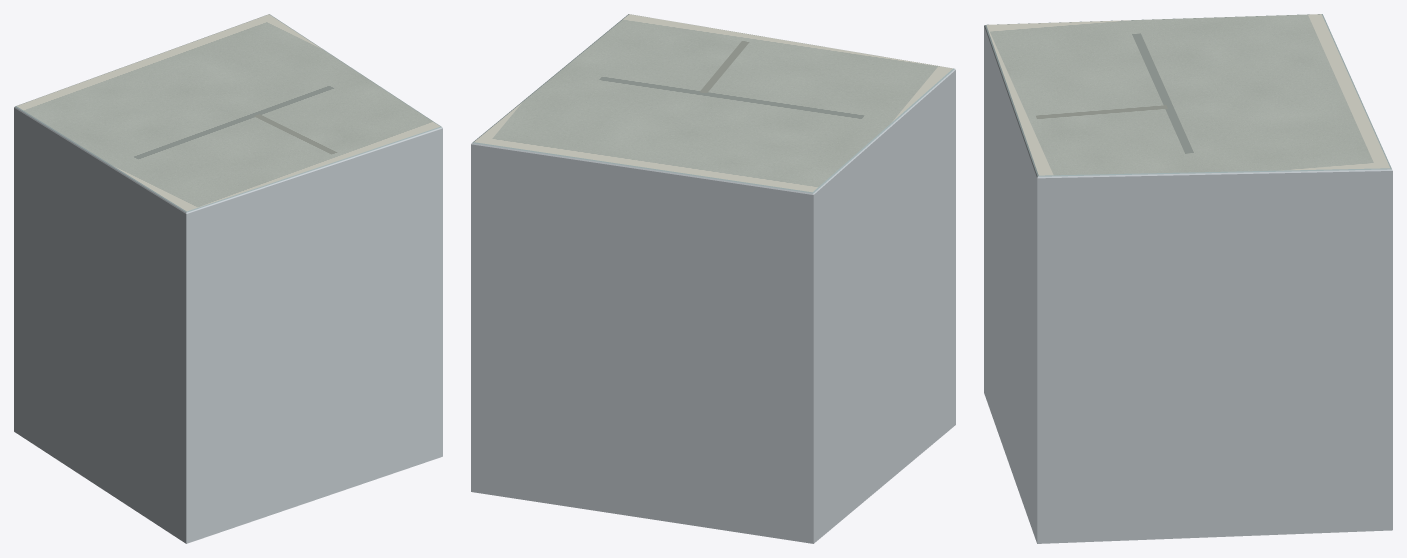
Rendered from fragments.glb.
3 views of the same model, side by side, from view 1: azimuth 30°, elevation 25°; view 2: azimuth 150°, elevation 25°; view 3: azimuth 270°, elevation 25° (orthographic). The views are drawn at different scales.
Parts seen in each view (by area): view 1: SM_animal_Fragment_004, SM_animal_Fragment_006, SM_animal_Fragment_032, SM_animal_Fragment_014, SM_animal_Fragment_061, SM_animal_Fragment_000, SM_animal_Fragment_020, SM_animal_Fragment_027, SM_animal_Fragment_038, SM_animal_Fragment_015, SM_animal_Fragment_001, SM_animal_Fragment_013 (+23 smaller); view 2: SM_animal_Fragment_055, SM_animal_Fragment_012, SM_animal_Fragment_019, SM_animal_Fragment_005, SM_animal_Fragment_028, SM_animal_Fragment_060, SM_animal_Fragment_042, SM_animal_Fragment_001, SM_animal_Fragment_063, SM_animal_Fragment_021, SM_animal_Fragment_023, SM_animal_Fragment_020 (+23 smaller); view 3: SM_animal_Fragment_002, SM_animal_Fragment_039, SM_animal_Fragment_016, SM_animal_Fragment_049, SM_animal_Fragment_021, SM_animal_Fragment_013, SM_animal_Fragment_030, SM_animal_Fragment_010, SM_animal_Fragment_035, SM_animal_Fragment_040, SM_animal_Fragment_034, SM_animal_Fragment_053 (+22 smaller).
Boxes of the visible parts, x1,y1,x2,y2 form: SM_animal_Fragment_004: (148,184,302,310); SM_animal_Fragment_006: (122,431,271,543); SM_animal_Fragment_032: (258,113,398,238); SM_animal_Fragment_014: (159,310,280,455); SM_animal_Fragment_061: (329,154,442,284); SM_animal_Fragment_000: (302,380,424,493); SM_animal_Fragment_020: (82,126,186,236); SM_animal_Fragment_027: (301,299,392,420); SM_animal_Fragment_038: (42,377,122,501); SM_animal_Fragment_015: (254,233,347,348); SM_animal_Fragment_001: (14,87,128,184); SM_animal_Fragment_013: (383,270,442,428); SM_animal_Fragment_055: (514,242,657,395); SM_animal_Fragment_012: (608,123,759,257); SM_animal_Fragment_019: (558,368,680,522); SM_animal_Fragment_005: (693,346,845,480); SM_animal_Fragment_028: (502,116,635,229); SM_animal_Fragment_060: (675,373,802,523); SM_animal_Fragment_042: (616,251,734,375); SM_animal_Fragment_001: (743,137,870,220); SM_animal_Fragment_063: (762,211,850,338); SM_animal_Fragment_021: (471,112,556,258); SM_animal_Fragment_023: (695,197,779,347); SM_animal_Fragment_020: (793,91,929,185); SM_animal_Fragment_002: (1159,141,1308,300); SM_animal_Fragment_039: (1088,329,1232,482); SM_animal_Fragment_016: (1027,139,1162,286); SM_animal_Fragment_049: (1240,253,1392,367); SM_animal_Fragment_021: (1294,155,1392,288); SM_animal_Fragment_013: (1024,336,1101,509); SM_animal_Fragment_030: (1223,396,1314,536); SM_animal_Fragment_010: (1276,342,1392,441); SM_animal_Fragment_035: (1161,299,1285,418); SM_animal_Fragment_040: (1030,471,1210,543); SM_animal_Fragment_034: (1083,143,1210,329); SM_animal_Fragment_053: (1295,433,1392,532).
Bounding box in the file's own units: 2.08 × 2.19 × 2.2.
4 materials, 1 textured.
